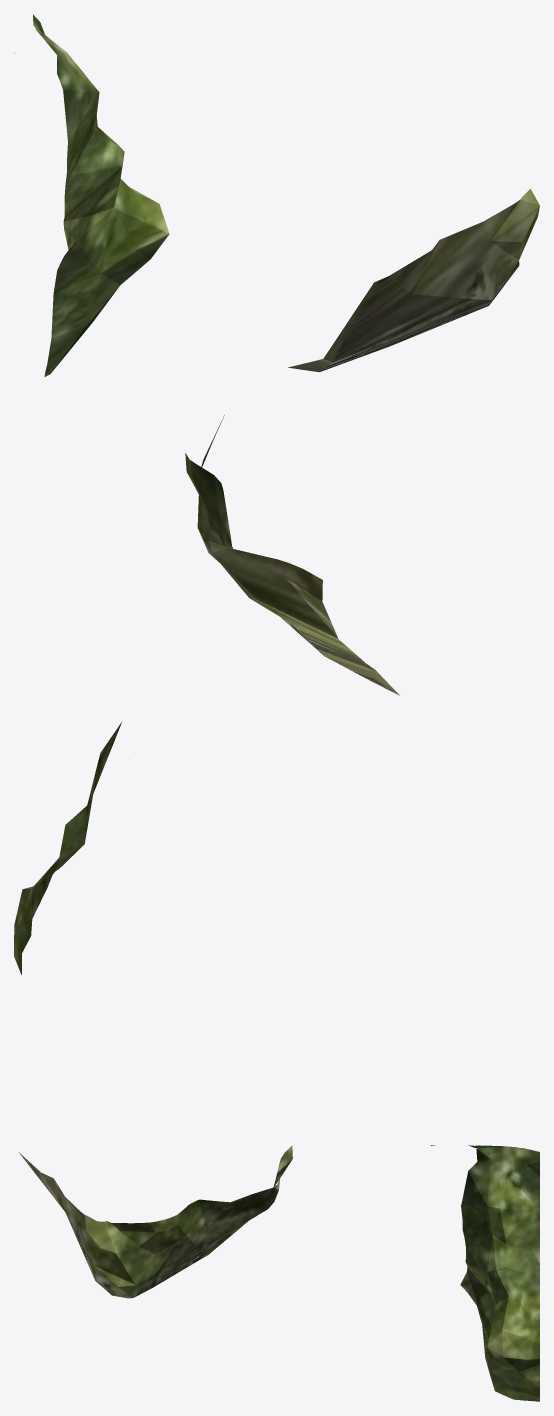
3 renders of one model, top to bottom at view 1: azimuth 30°, elevation 25°; view 2: azimuth 150°, elevation 25°; view 3: azimuth 270°, elevation 25°, orthographic. The views are drawn at different scales.
Size of the model in its own units: 0.8091 by 1.19 by 2.24.
Materials: 1 (1 with a texture image).
